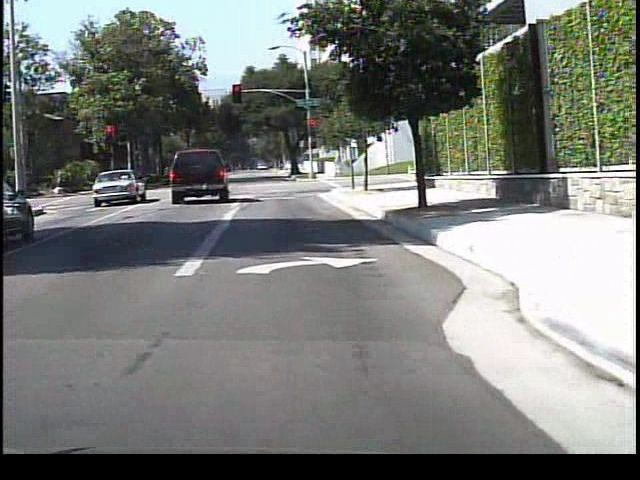person: (332, 148, 348, 176)
